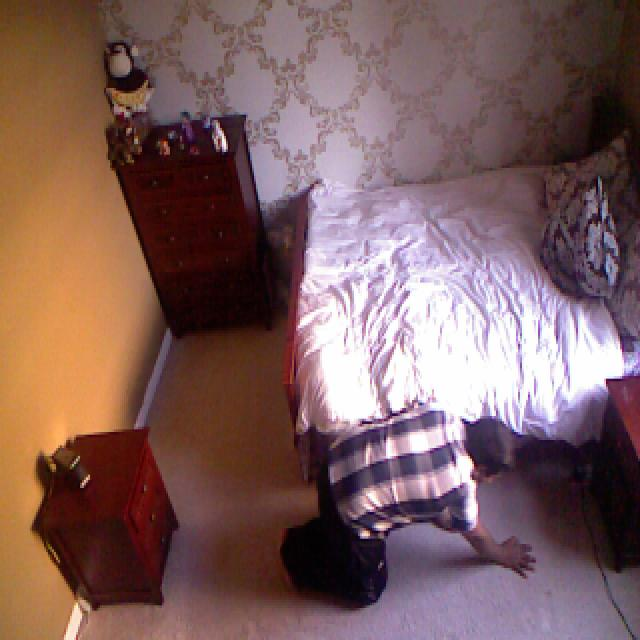crawling: (275, 401, 538, 604)
